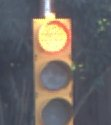Red: (23, 17, 77, 125)
